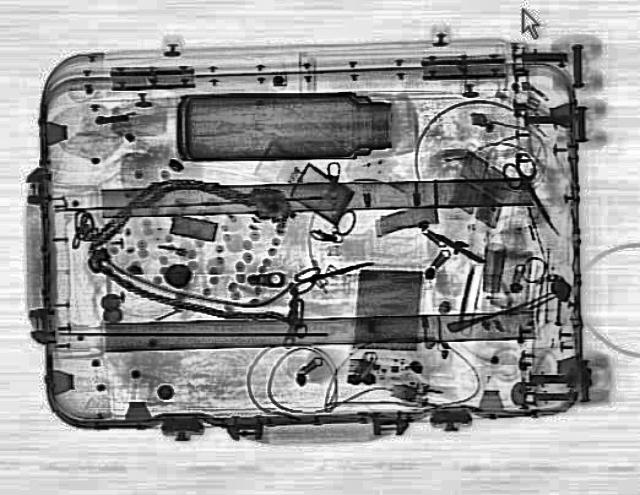Scissors: (490, 150, 572, 238), (284, 252, 378, 294)
